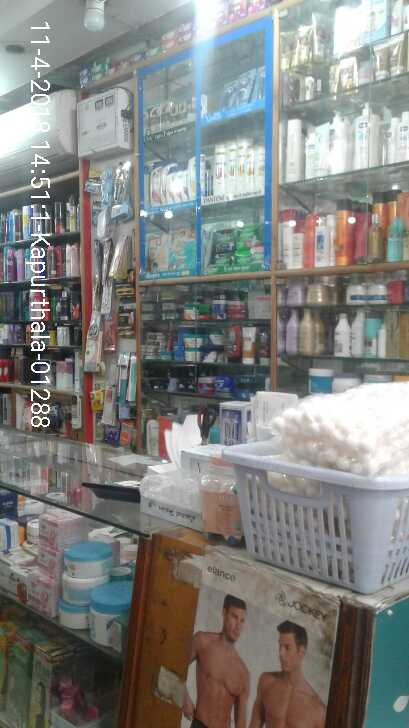venus: (238, 70, 254, 104), (220, 80, 234, 107), (257, 64, 265, 99)
